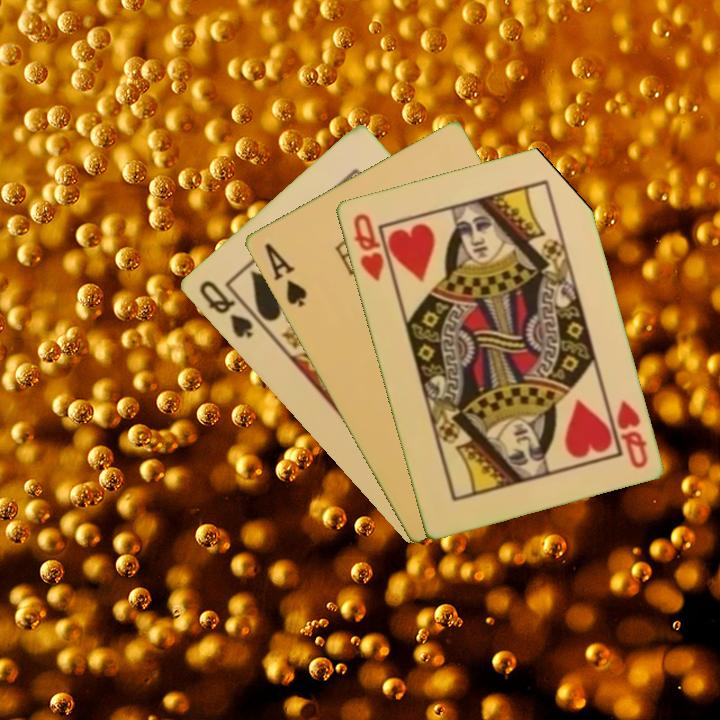As: (260, 239, 309, 310)
Qh: (612, 396, 650, 471), (349, 209, 386, 284)
Qs: (195, 276, 256, 341)
